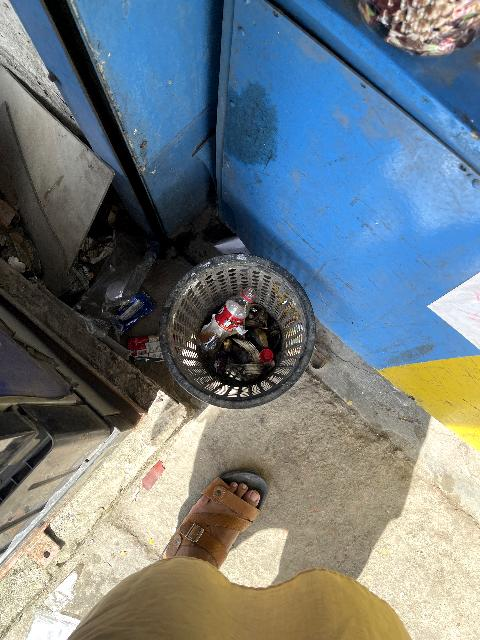hardplastic: (151, 237, 334, 425)
